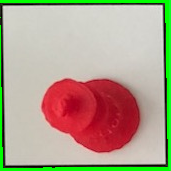Red King: (36, 72, 144, 156)
